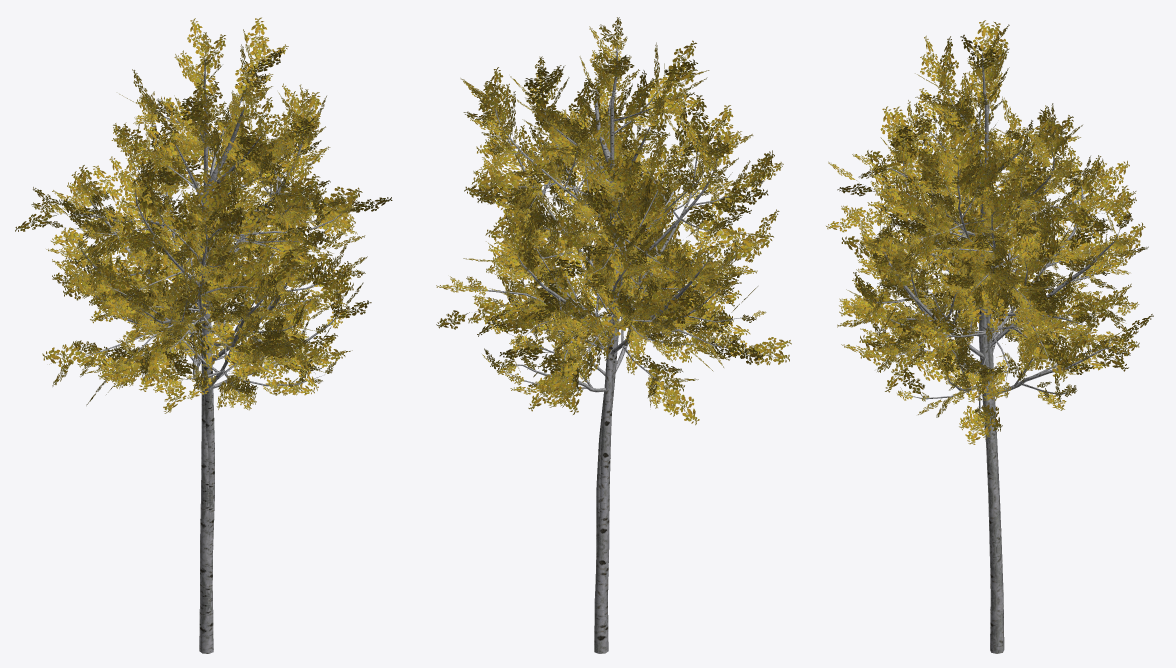
The model's file is terak.glb.
3 renders of one model, left to right at view 1: azimuth 30°, elevation 25°; view 2: azimuth 150°, elevation 25°; view 3: azimuth 270°, elevation 25°, orthographic.
Parts seen in each view (by area): view 1: v0_leaf, v1_leaf, v0_bark, v1_bark; view 2: v0_leaf, v1_leaf, v0_bark, v1_bark; view 3: v0_leaf, v1_leaf, v0_bark, v1_bark.
Part boxes in pixels (bbox=[...]): v0_leaf: bbox=[46, 17, 366, 413]; v1_leaf: bbox=[15, 57, 392, 395]; v0_bark: bbox=[80, 55, 335, 653]; v1_bark: bbox=[62, 107, 346, 583]; v0_leaf: bbox=[460, 17, 783, 425]; v1_leaf: bbox=[436, 46, 791, 407]; v0_bark: bbox=[489, 42, 750, 653]; v1_bark: bbox=[466, 79, 746, 577]; v0_leaf: bbox=[837, 20, 1148, 402]; v1_leaf: bbox=[826, 56, 1153, 444]; v0_bark: bbox=[865, 52, 1118, 653]; v1_bark: bbox=[863, 108, 1117, 589].
Bounding box in the file's own units: 10.65 × 19 × 9.37.
2 materials, 2 textured.
